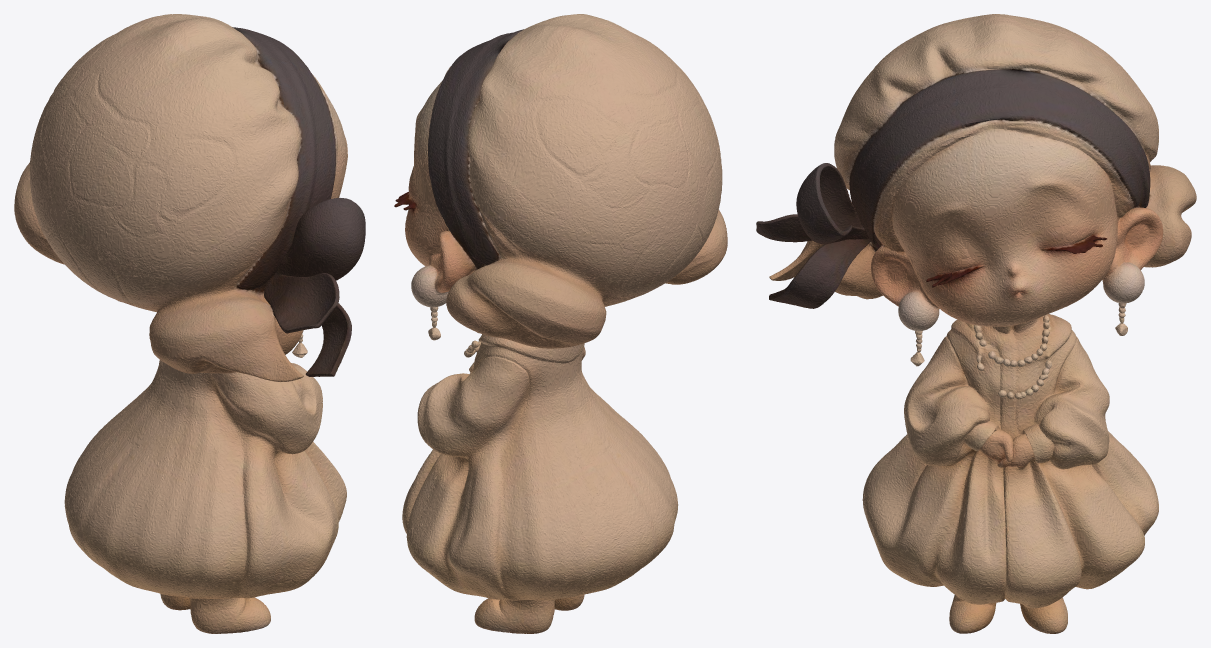
File: angle.glb
The picture shows the model from 3 angles, left to right: view 1: azimuth 30°, elevation 25°; view 2: azimuth 150°, elevation 25°; view 3: azimuth 270°, elevation 25°; orthographic projection. The views are drawn at different scales.
Visible parts, largest first — view 1: tripo_node_3656f040-480e-43bf-8992-c991b8187e7f; view 2: tripo_node_3656f040-480e-43bf-8992-c991b8187e7f; view 3: tripo_node_3656f040-480e-43bf-8992-c991b8187e7f.
Part boxes in pixels (x1=…): tripo_node_3656f040-480e-43bf-8992-c991b8187e7f: x1=14, y1=14, x2=365, y2=633; tripo_node_3656f040-480e-43bf-8992-c991b8187e7f: x1=394, y1=14, x2=727, y2=633; tripo_node_3656f040-480e-43bf-8992-c991b8187e7f: x1=756, y1=14, x2=1196, y2=633.
Bounding box in the file's own units: 0.495 × 1 × 0.6816.
Materials: 1 (1 with a texture image).
